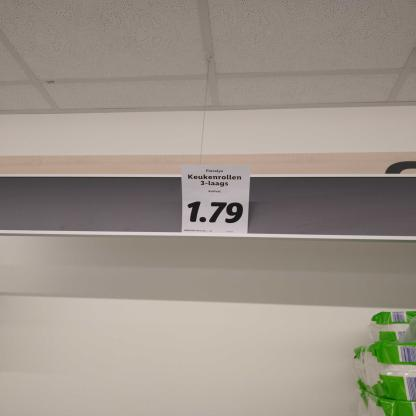prtg: (182, 166, 251, 234)
